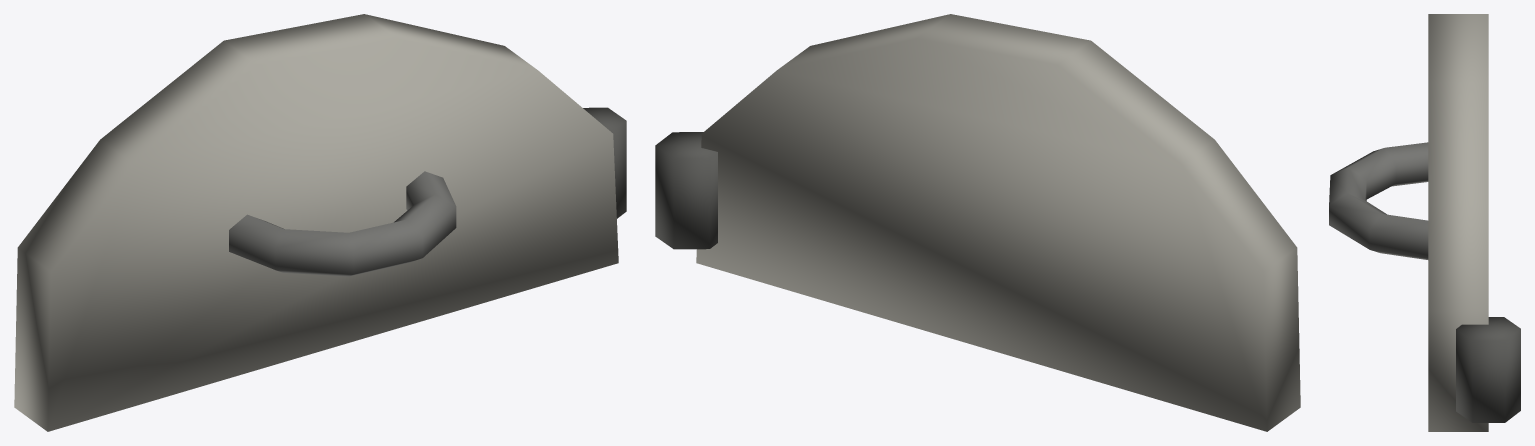
Rendered from rpgpp_ag_stove_small_01_door.fbx.
3 renders of one model, left to right at view 1: azimuth 30°, elevation 25°; view 2: azimuth 150°, elevation 25°; view 3: azimuth 270°, elevation 25°, orthographic. The views are drawn at different scales.
Visible parts, largest first — view 1: rpgpp_ag_stove_small_01_door; view 2: rpgpp_ag_stove_small_01_door; view 3: rpgpp_ag_stove_small_01_door.
Boxes of the visible parts, x1,y1,x2,y2 form: rpgpp_ag_stove_small_01_door: (14, 14, 626, 431); rpgpp_ag_stove_small_01_door: (655, 14, 1300, 431); rpgpp_ag_stove_small_01_door: (1329, 14, 1520, 431).
Size of the model in its own units: 0.8047 by 0.4023 by 0.2453.
